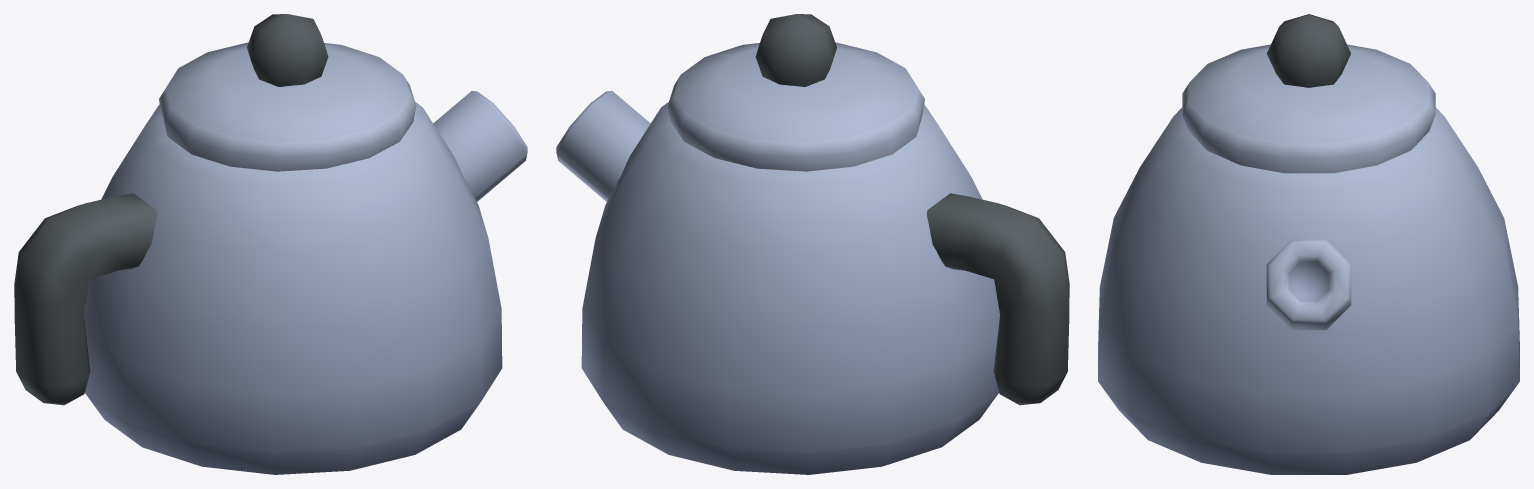
File: kettle.glb
The picture shows the model from 3 angles, left to right: view 1: azimuth 30°, elevation 25°; view 2: azimuth 150°, elevation 25°; view 3: azimuth 270°, elevation 25°; orthographic projection.
Parts seen in each view (by area): view 1: kettle; view 2: kettle; view 3: kettle.
Part boxes in pixels (box(x1,y1,x2,y2)): kettle: box(14, 14, 527, 474); kettle: box(556, 14, 1069, 474); kettle: box(1098, 14, 1519, 474).
Size of the model in its own units: 0.8126 by 0.5952 by 0.6.
1 material, 1 textured.
